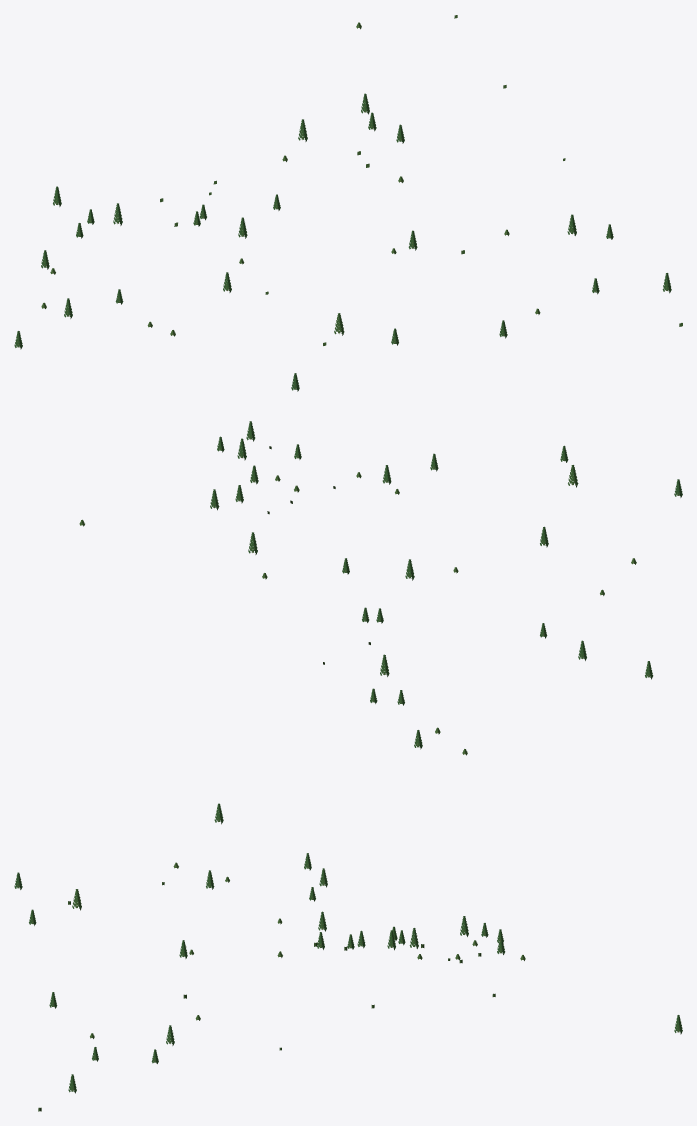
Rendered from arch_canopy_lantern_rock_lod1.glb.
3 views of the same model, one above another, from view 1: azimuth 30°, elevation 25°; view 2: azimuth 150°, elevation 25°; view 3: azimuth 270°, elevation 25° (orthographic). The views are drawn at different scales.
Parts seen in each view (by area): view 1: arch_canopy_lantern_rock_lod1; view 2: arch_canopy_lantern_rock_lod1; view 3: arch_canopy_lantern_rock_lod1.
Boxes of the visible parts, x1=… form: arch_canopy_lantern_rock_lod1: x1=14, y1=15, x2=682, y2=391; arch_canopy_lantern_rock_lod1: x1=79, y1=421, x2=682, y2=824; arch_canopy_lantern_rock_lod1: x1=14, y1=853, x2=682, y2=1111.
Bounding box in the file's own units: 176 × 59.23 × 200.
